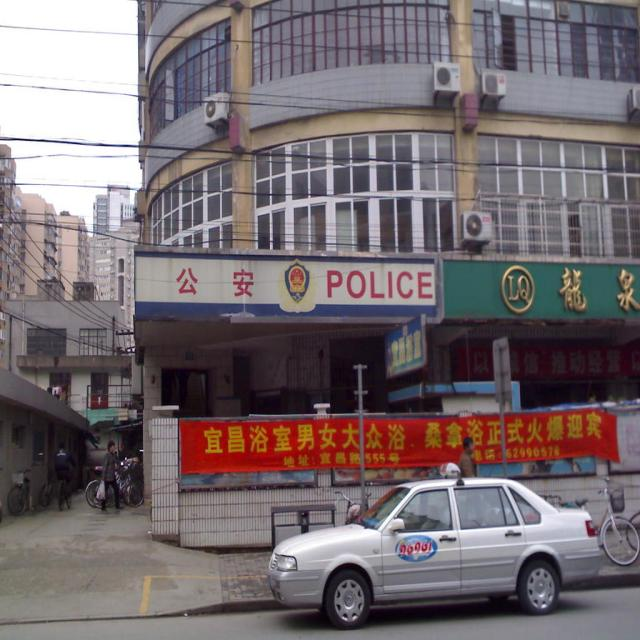car: (264, 462, 603, 627)
